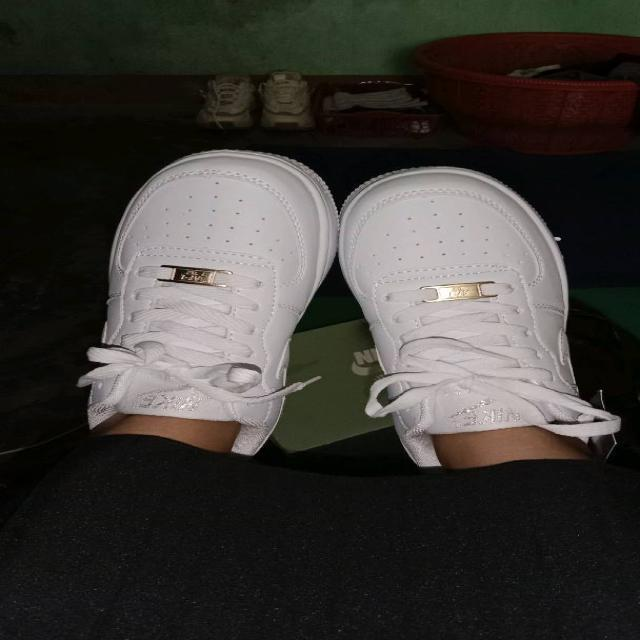nike fake air force: (79, 145, 342, 461), (339, 160, 582, 468)
